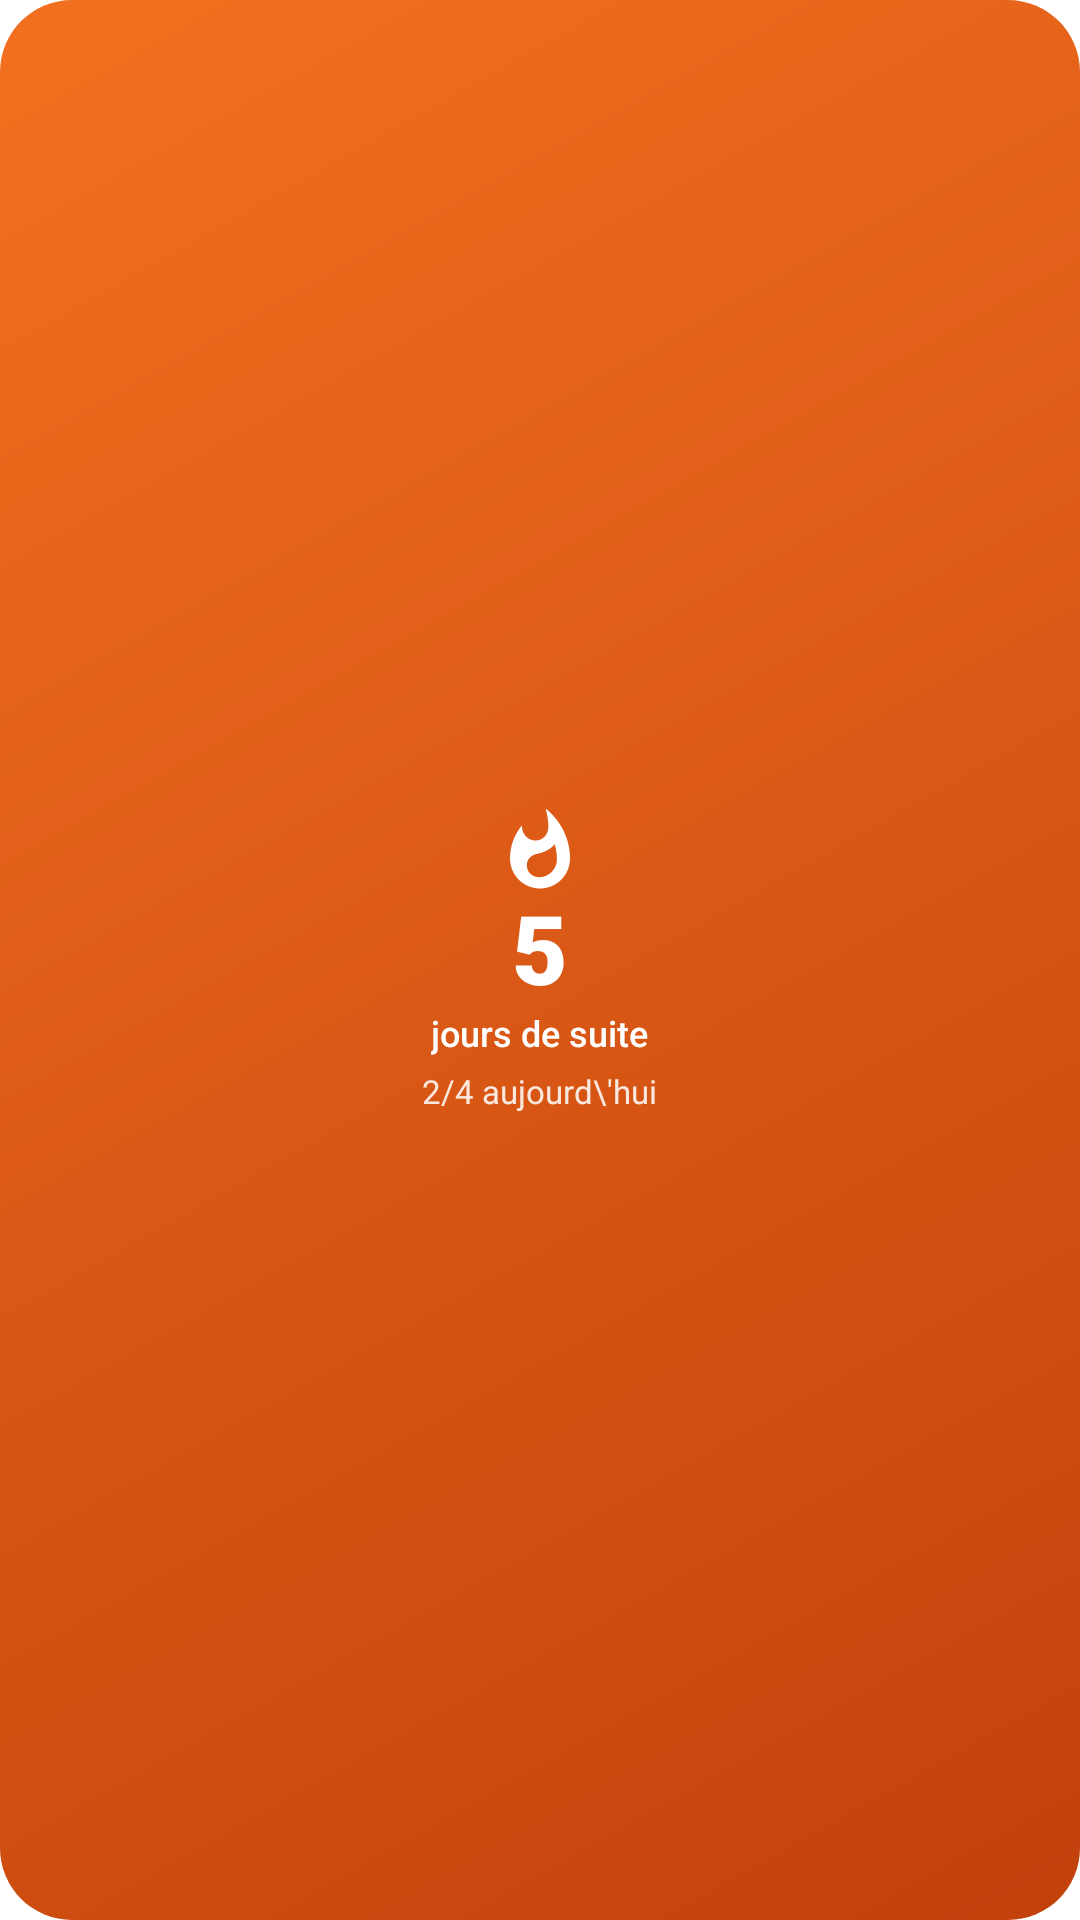

Named icons in this screenshot (1080×1920) and their centers, (x,y):
widget flame: (540,849)
